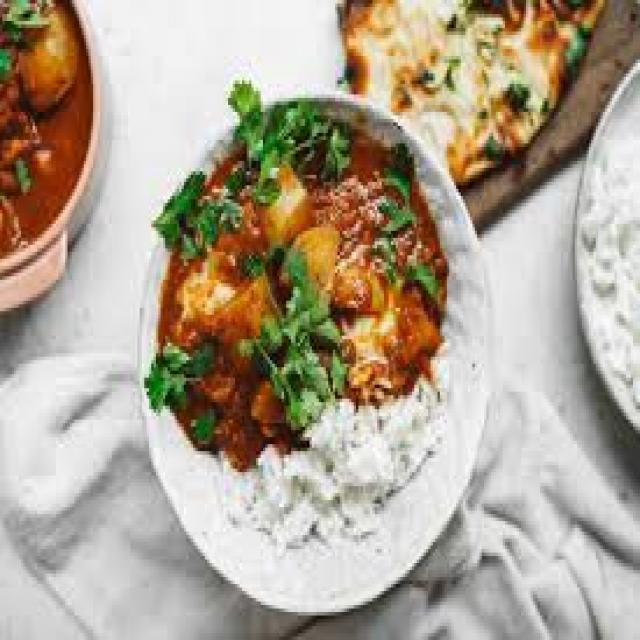Butter Chicken: (136, 129, 457, 441)
